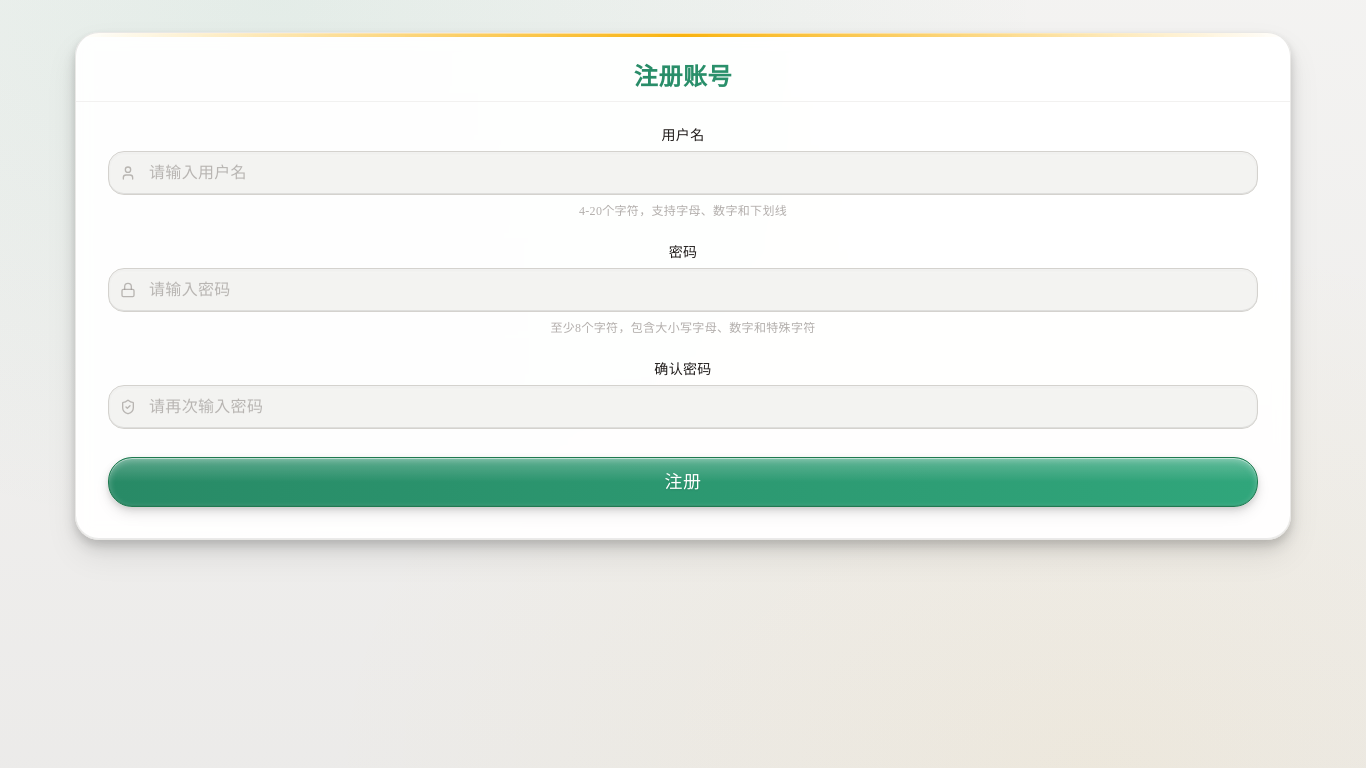
Test: RegisterForm › shows error for mismatched passwords
The image size is (1366, 768).
Type "testuser" into the field labelled "用户名". click: (683, 173)
box: [108,151,1258,195]
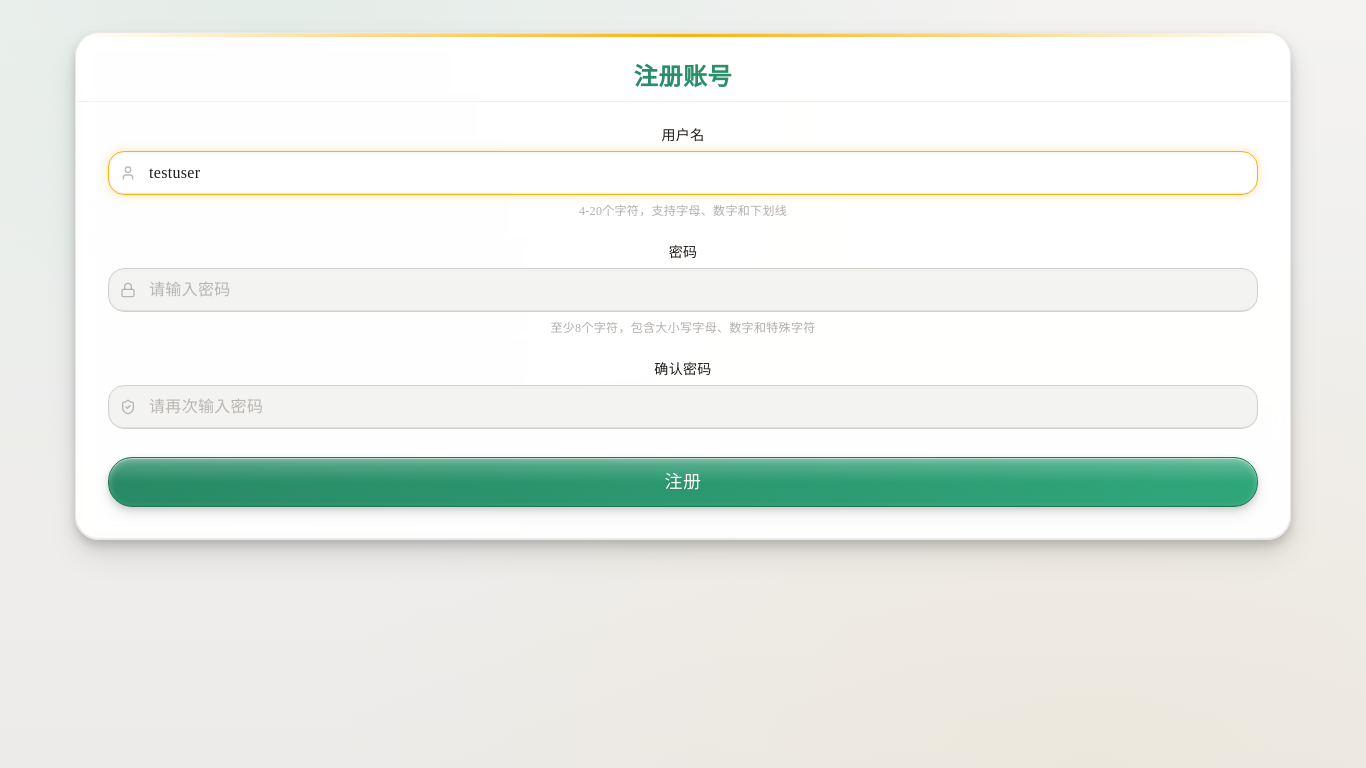
Type "password123" into the password field labelled "密码". click: (683, 290)
box: [108,268,1258,312]
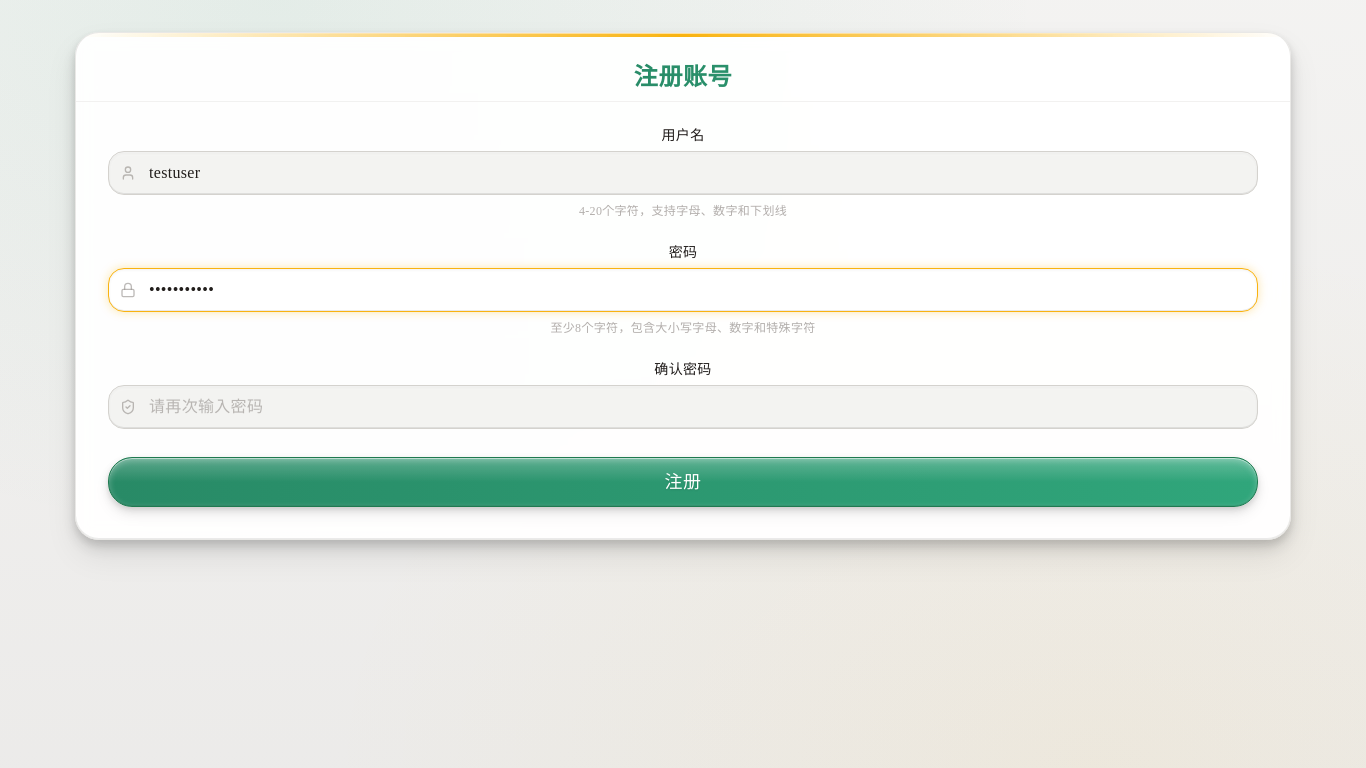
Type "password456" into the password field labelled "确认密码". click: (683, 407)
box: [108,385,1258,429]
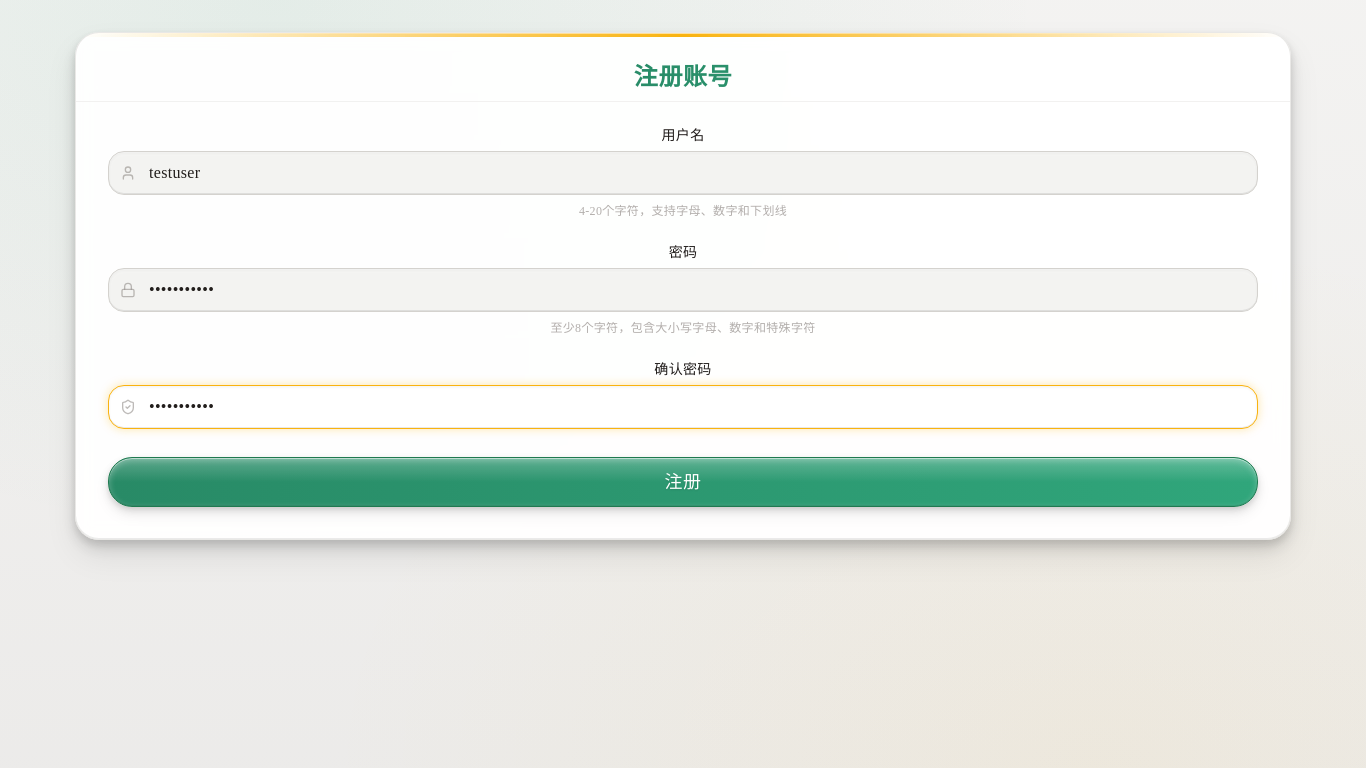
Click the button "注册". click: (683, 482)
box: [108,457,1258,507]
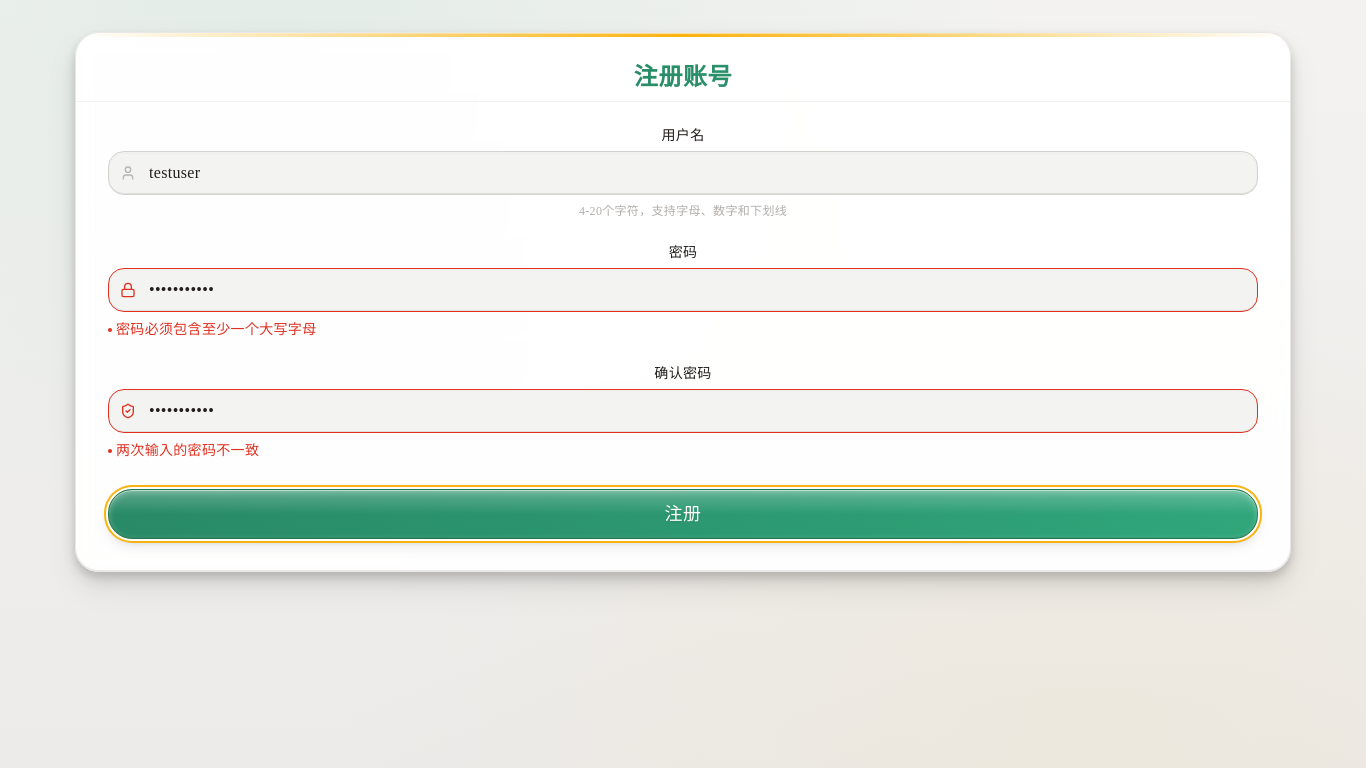
Expected: the text "两次输入的密码不一致" is shown, [108,443,259,458]
